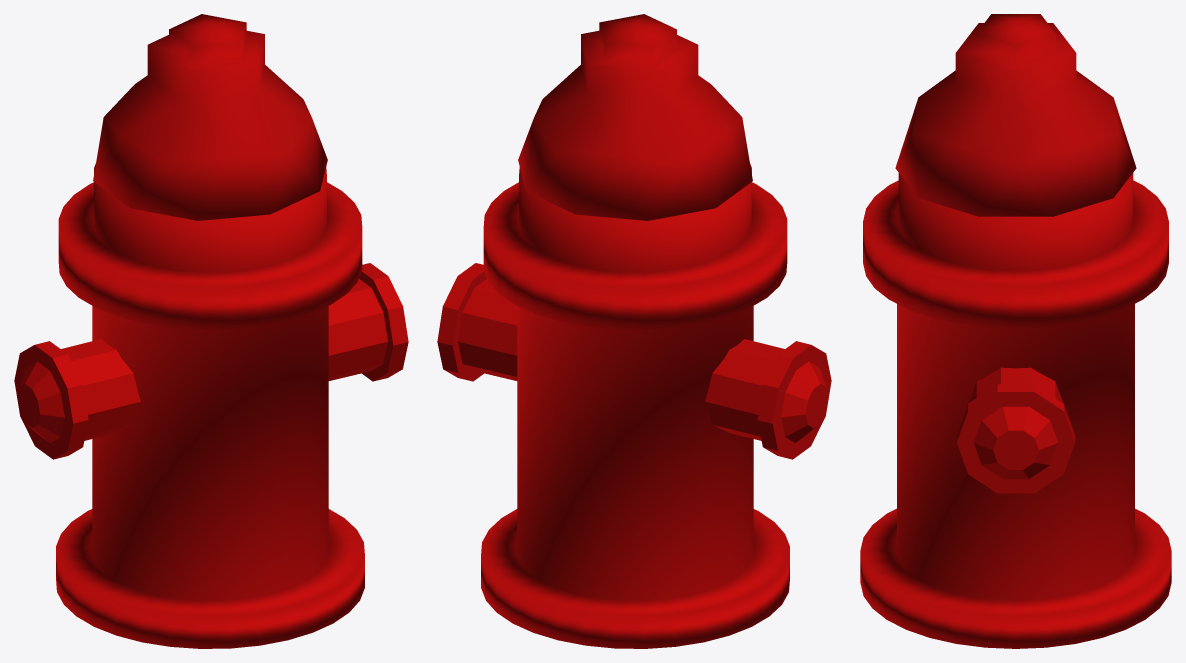
The model's file is yangın musluğu yeni.fbx.
The picture shows the model from 3 angles, left to right: view 1: azimuth 30°, elevation 25°; view 2: azimuth 150°, elevation 25°; view 3: azimuth 270°, elevation 25°; orthographic projection.
Parts seen in each view (by area): view 1: Daire; view 2: Daire; view 3: Daire.
Part boxes in pixels (left/top/right/bottom): Daire: left=14, top=14, right=408, bottom=648; Daire: left=437, top=14, right=831, bottom=648; Daire: left=860, top=14, right=1171, bottom=648.
Size of the model in its own units: 52.46 by 76.79 by 38.46.
Materials: 1 (1 with a texture image).
